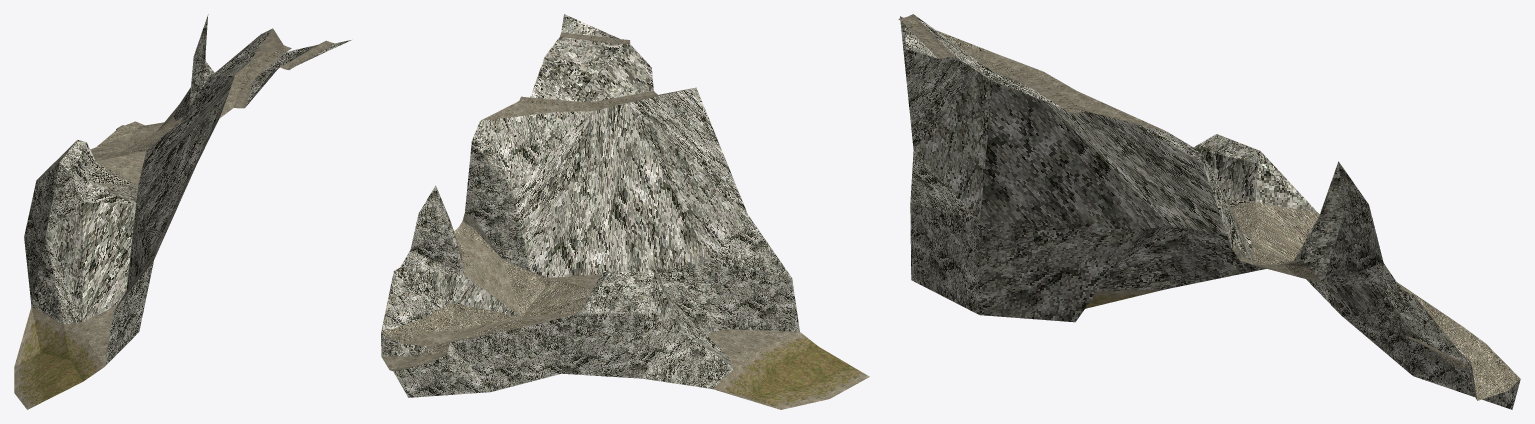
Rendered from lod_cs_landbit_14.obj.
3 renders of one model, left to right at view 1: azimuth 30°, elevation 25°; view 2: azimuth 150°, elevation 25°; view 3: azimuth 270°, elevation 25°, orthographic. The views are drawn at different scales.
Parts seen in each view (by area): view 1: lod_cs_landbit_14; view 2: lod_cs_landbit_14; view 3: lod_cs_landbit_14.
Boxes of the visible parts, bbox=[...] form: lod_cs_landbit_14: bbox=[14, 14, 351, 409]; lod_cs_landbit_14: bbox=[381, 14, 869, 409]; lod_cs_landbit_14: bbox=[898, 14, 1520, 409].
Size of the model in its own units: 223 by 191 by 230.
6 materials, 6 textured.
